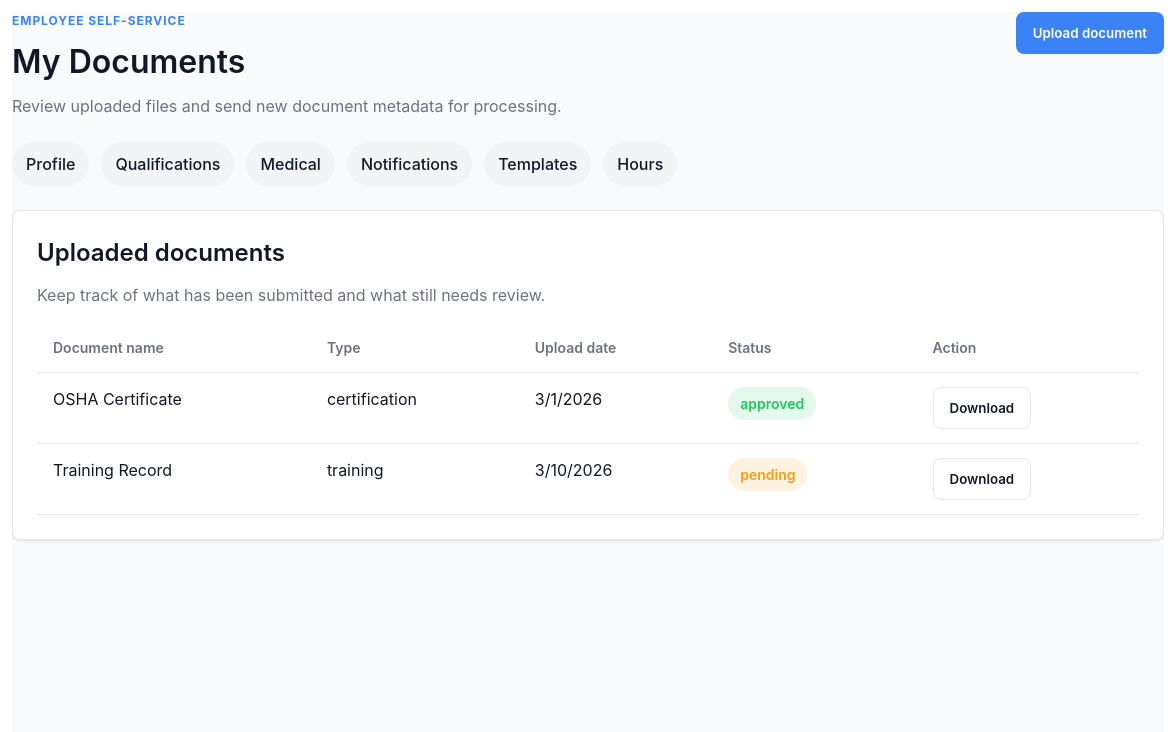
MyDocumentsPage › shows upload form when button clicked
Click the button "Upload document" at (1090, 33), box top-left (1016, 12), bottom-right (1164, 54)
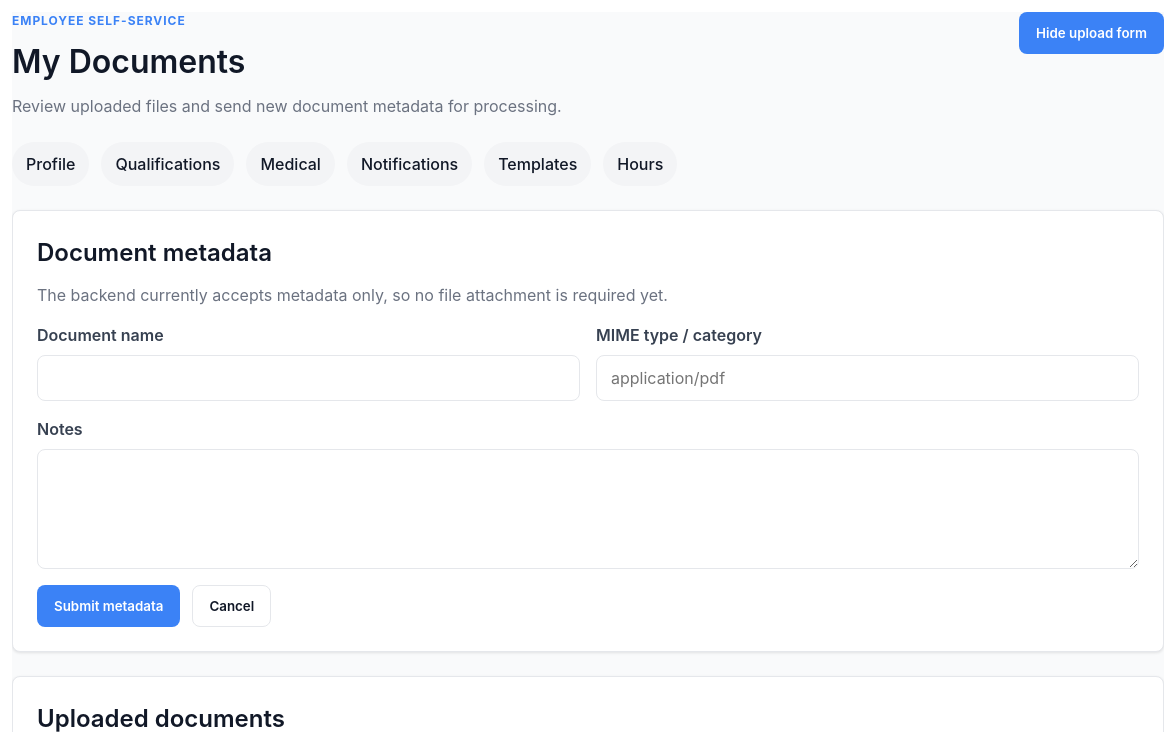
Expected: the field labelled "Document name" is shown, top-left (37, 355), bottom-right (580, 401)
Expected: the button "Submit metadata" is shown, top-left (37, 585), bottom-right (180, 627)
